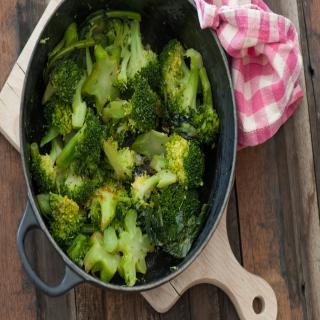Broccoli: (29, 17, 220, 286)
